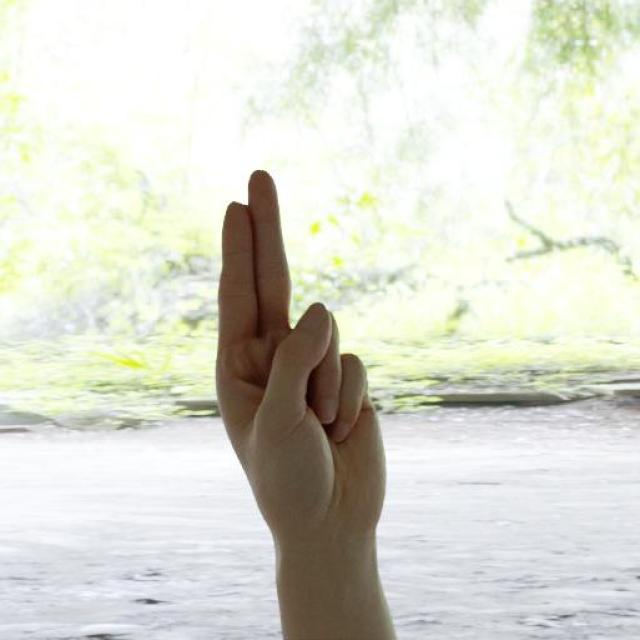U: (208, 169, 391, 541)
